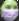with_mask: (2, 2, 19, 21)
